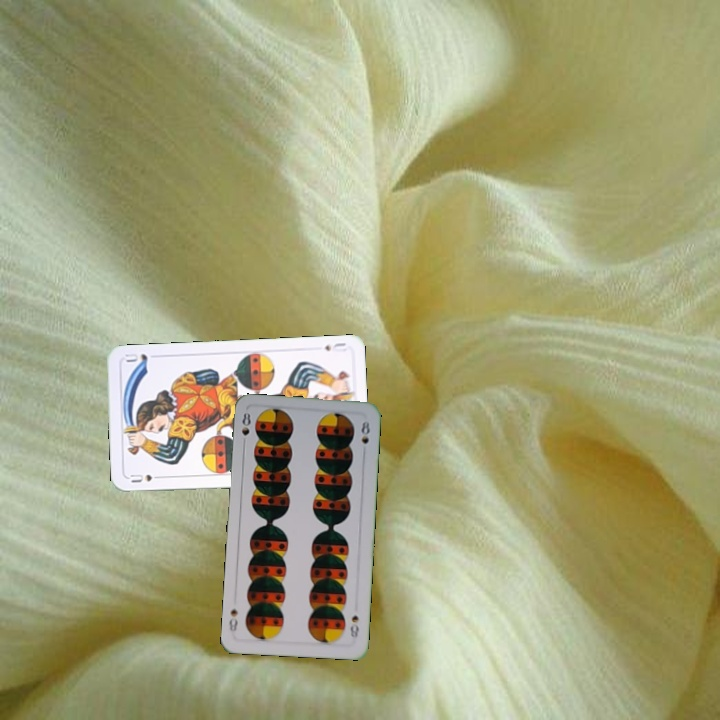S8: (237, 408, 253, 438), (346, 611, 361, 640)
SU: (126, 470, 166, 485), (320, 338, 349, 355)
